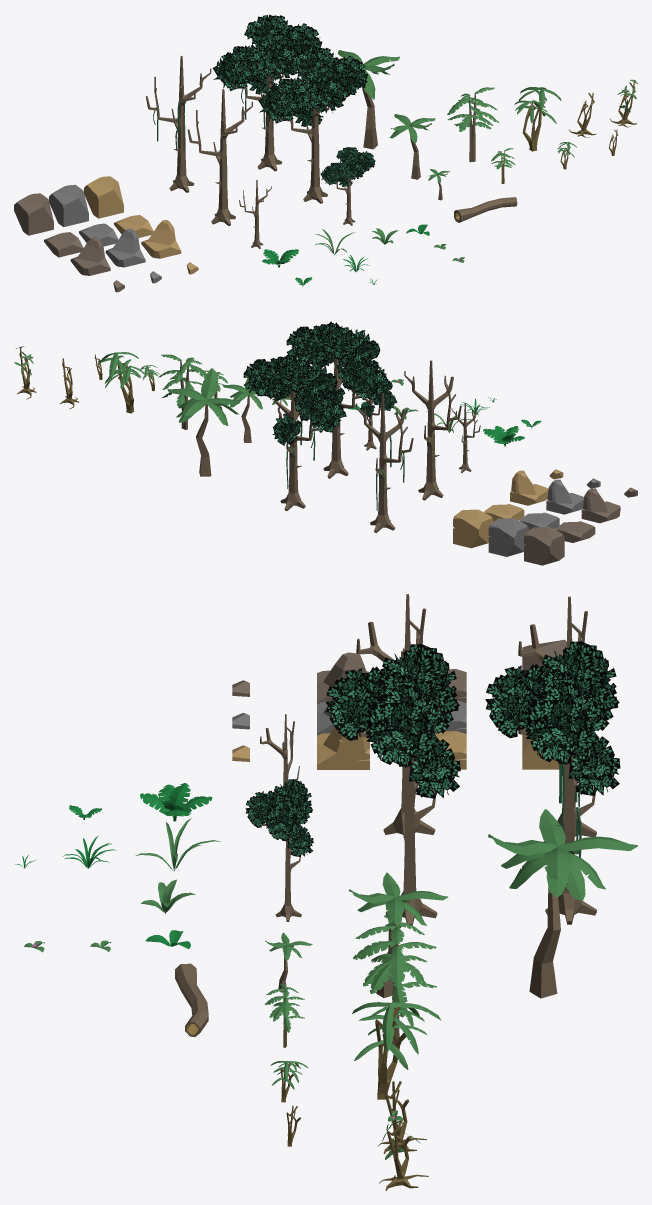
File: low_poly_jungle_plant_package.glb
The picture shows the model from 3 angles, top to bottom: view 1: azimuth 30°, elevation 25°; view 2: azimuth 150°, elevation 25°; view 3: azimuth 270°, elevation 25°; orthographic projection. The views are drawn at different scales.
Parts seen in each view (by area): view 1: Plane.004, Plane.031, Plane.032, Plane.069, Plane.003, Plane.033, Cube.025, Cube.027, Cube.026, Plane.039, Cube.036, Cube.037 (+7 smaller); view 2: Plane.031, Plane.004, Plane.033, Plane.032, Plane.003, Cube.025, Cube.026, Cube.027, Plane.039, Cube.036, Cube.038, Cube.037 (+7 smaller); view 3: Plane.031, Plane.004, Plane.033, Plane.069, Plane.039, Cube.038, Plane.003, Plane.071, Plane.042, Plane.032, Plane.059, Cube.036 (+1 smaller).
Part boxes in pixels (box(x1,y1,x2,y2)): Plane.004: box(258, 47, 367, 203); Plane.031: box(212, 14, 322, 171); Plane.032: box(146, 55, 211, 192); Plane.069: box(320, 147, 375, 225); Plane.003: box(187, 89, 252, 225); Plane.033: box(337, 50, 399, 149); Cube.025: box(14, 193, 53, 235); Cube.027: box(84, 176, 123, 218); Cube.026: box(49, 184, 88, 227); Plane.039: box(514, 87, 561, 151); Cube.036: box(70, 237, 110, 275); Cube.037: box(105, 228, 145, 267); Plane.031: box(243, 354, 346, 510); Plane.004: box(286, 321, 389, 478); Plane.033: box(167, 368, 241, 476); Plane.032: box(356, 393, 413, 532); Plane.003: box(404, 360, 461, 500); Cube.025: box(524, 527, 564, 565); Cube.026: box(488, 518, 529, 556); Cube.027: box(453, 509, 493, 548); Plane.039: box(99, 352, 146, 413); Cube.036: box(581, 488, 620, 523); Cube.038: box(510, 470, 548, 505); Cube.037: box(546, 479, 583, 514); Plane.031: box(485, 641, 620, 924); Plane.004: box(325, 644, 460, 927); Plane.033: box(488, 809, 637, 998); Plane.069: box(245, 779, 313, 921); Plane.039: box(352, 1002, 441, 1099); Cube.038: box(317, 727, 369, 769); Plane.003: box(356, 594, 435, 840); Plane.071: box(175, 963, 208, 1036); Plane.042: box(140, 783, 212, 821); Plane.032: box(518, 596, 596, 836); Plane.059: box(379, 1110, 428, 1190); Cube.036: box(317, 652, 369, 703).
Bounding box in the file's own units: 25.15 × 6.22 × 13.06.
12 materials, 1 textured.
